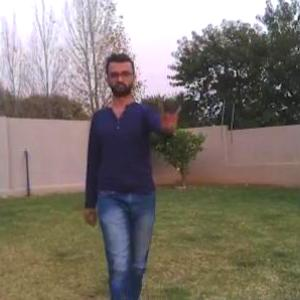takeoff-hand: (157, 95, 186, 137)
